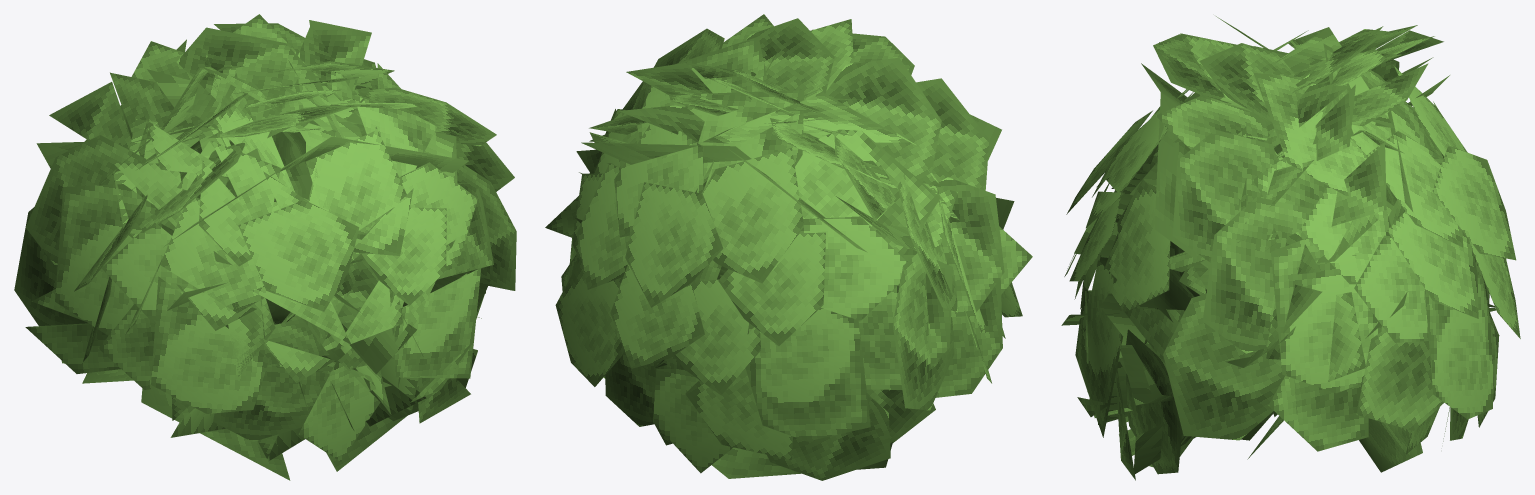
The model's file is bush-hydrangea-spring.glb.
3 renders of one model, left to right at view 1: azimuth 30°, elevation 25°; view 2: azimuth 150°, elevation 25°; view 3: azimuth 270°, elevation 25°, orthographic. The views are drawn at different scales.
Parts seen in each view (by area): view 1: bush-hydrangea-spring; view 2: bush-hydrangea-spring; view 3: bush-hydrangea-spring.
Boxes of the visible parts, <box> form: bush-hydrangea-spring: <box>14,14,516,480</box>; bush-hydrangea-spring: <box>545,14,1032,480</box>; bush-hydrangea-spring: <box>1061,16,1520,480</box>.
Size of the model in its own units: 1.17 by 0.9692 by 0.9528.
1 material, 1 textured.
